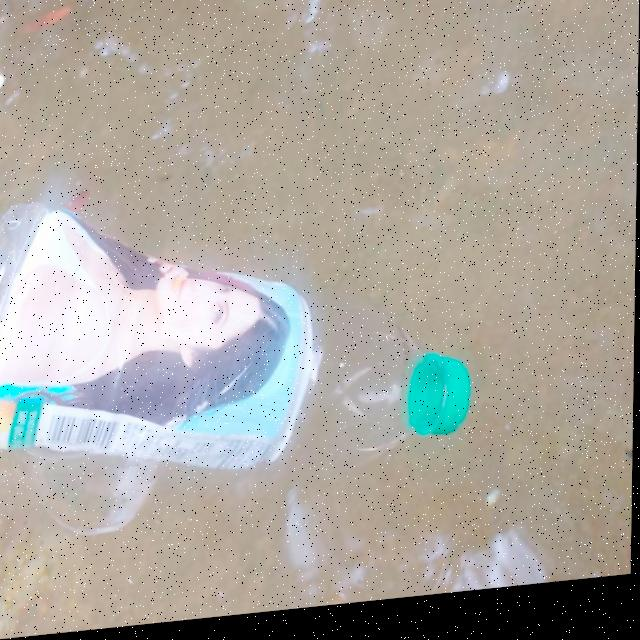waterbottle: (0, 157, 494, 543)
